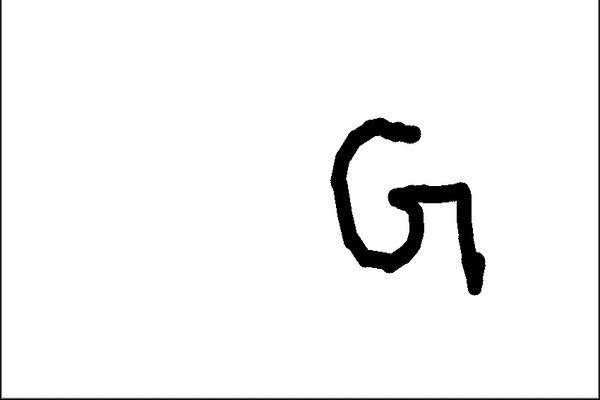G: (326, 113, 490, 300)
